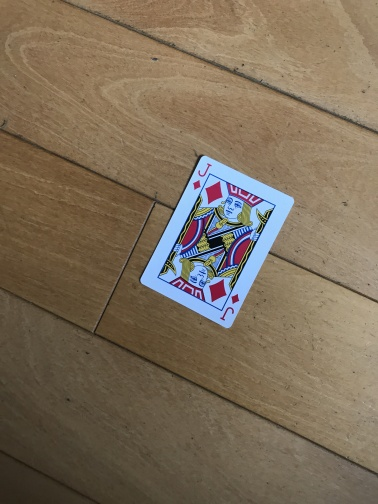jack: (138, 153, 295, 330)
